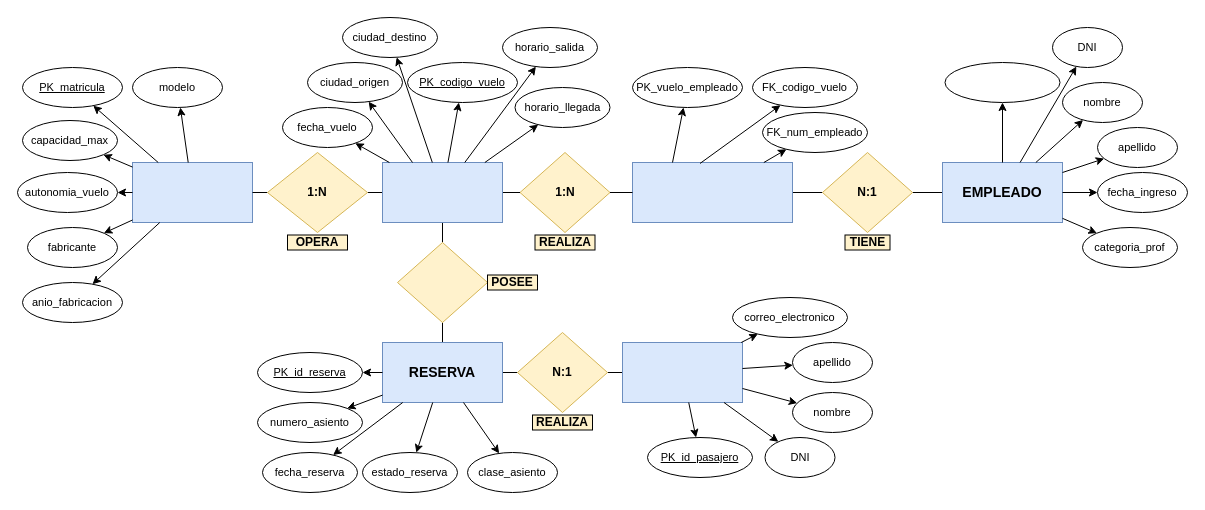
Image size: 1205x510. Some labels were removed from this diagram. The shapes that lost their labels are listed below. From the top down, each one's centre as x and y in pixels, then its label:
the point at 1002,82: PK_num_empleado
the point at 192,192: AVION
the point at 442,192: VUELO
the point at 712,192: VUELO_EMPLEADO
the point at 442,282: 1 : N
the point at 682,372: PASAJERO
